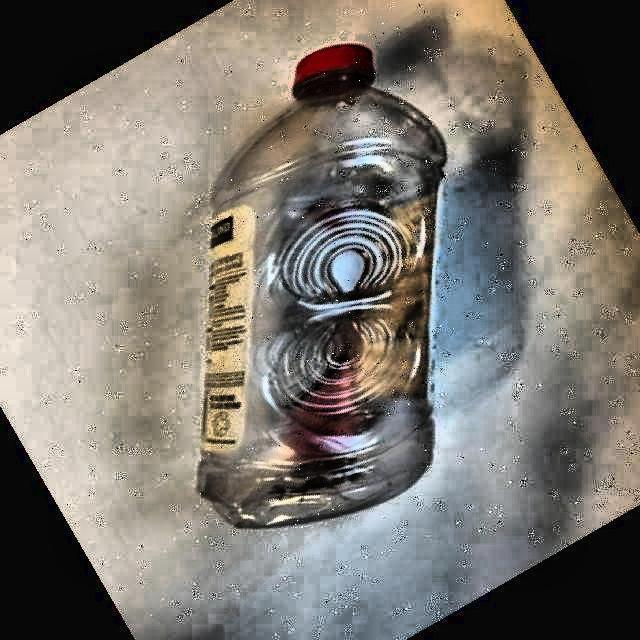plastic: (198, 46, 446, 527)
